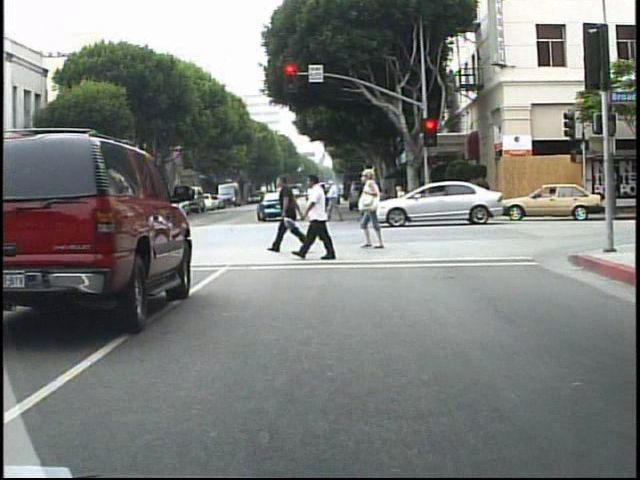person: (306, 170, 342, 261), (275, 169, 308, 261), (359, 168, 393, 252), (472, 169, 492, 215), (316, 181, 336, 224), (121, 183, 139, 229), (150, 182, 166, 232), (367, 178, 385, 222), (4, 194, 21, 238), (329, 178, 344, 225), (5, 199, 20, 236), (358, 171, 368, 224)
